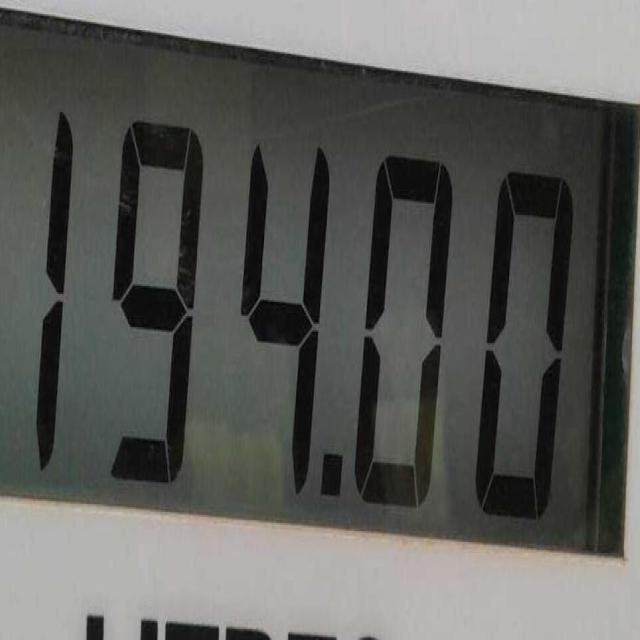.: (318, 442, 346, 514)
0: (355, 155, 453, 509), (476, 170, 573, 520)
1: (36, 105, 75, 477)
4: (242, 140, 331, 498)
9: (108, 120, 206, 484)
